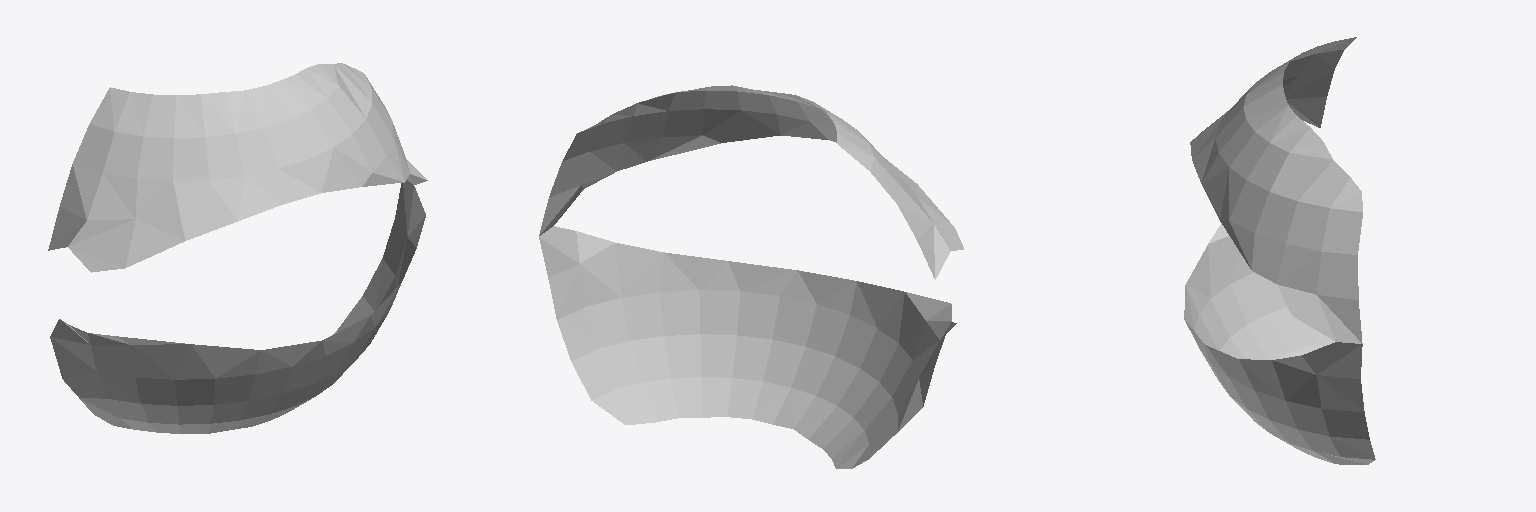
The model's file is innerLidLeftUV.obj.
3 renders of one model, left to right at view 1: azimuth 30°, elevation 25°; view 2: azimuth 150°, elevation 25°; view 3: azimuth 270°, elevation 25°, orthographic.
Parts seen in each view (by area): view 1: wholeFace_NasalCartilage3.002; view 2: wholeFace_NasalCartilage3.002; view 3: wholeFace_NasalCartilage3.002.
Boxes of the visible parts, x1=… form: wholeFace_NasalCartilage3.002: x1=48, y1=63, x2=427, y2=433; wholeFace_NasalCartilage3.002: x1=539, y1=85, x2=963, y2=468; wholeFace_NasalCartilage3.002: x1=1184, y1=37, x2=1375, y2=464.
Bounding box in the file's own units: 1.91 × 1.65 × 0.8435.